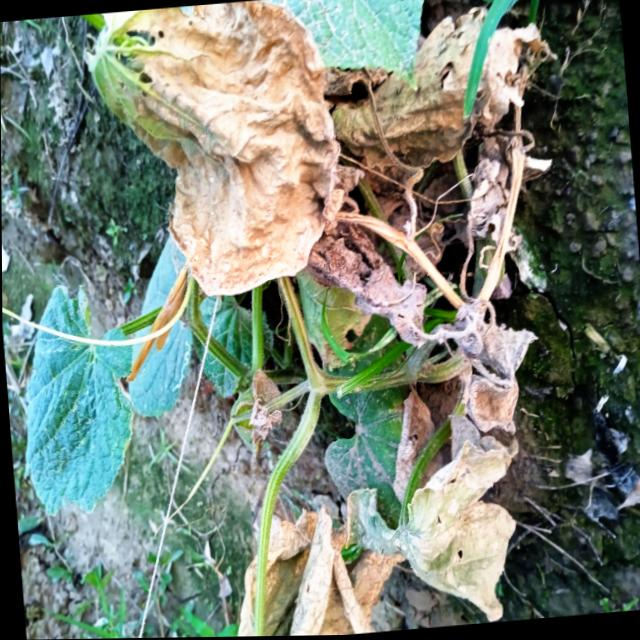Bacterial-Wilt: (87, 0, 364, 297), (342, 414, 515, 623)
